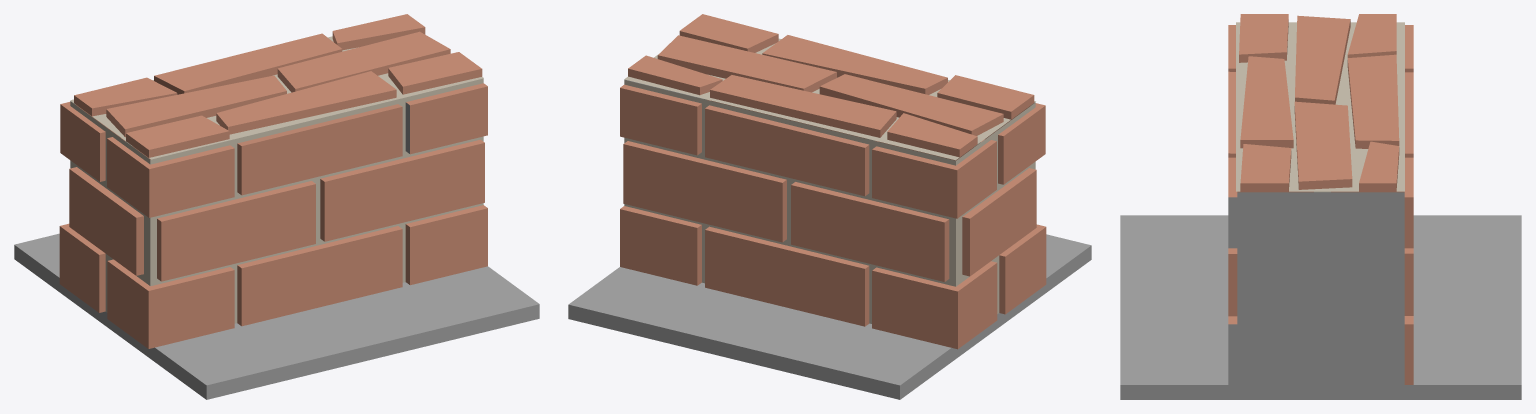
File: wall_straight.fbx
The picture shows the model from 3 angles, left to right: view 1: azimuth 30°, elevation 25°; view 2: azimuth 150°, elevation 25°; view 3: azimuth 270°, elevation 25°; orthographic projection. The views are drawn at different scales.
Visible parts, largest first — view 1: pCube2, pCube3, pCube1; view 2: pCube2, pCube3, pCube1; view 3: pCube1, pCube2, pCube3.
Part boxes in pixels (x1,y1,x2,y2): pCube2: (59,78,487,348); pCube3: (70,14,483,159); pCube1: (14,233,539,399); pCube2: (620,79,1046,349); pCube3: (624,14,1035,160); pCube1: (568,234,1091,399); pCube1: (1120,215,1521,399); pCube2: (1228,25,1413,384); pCube3: (1236,14,1404,191).
Size of the model in its own units: 24.55 by 14.3 by 24.
